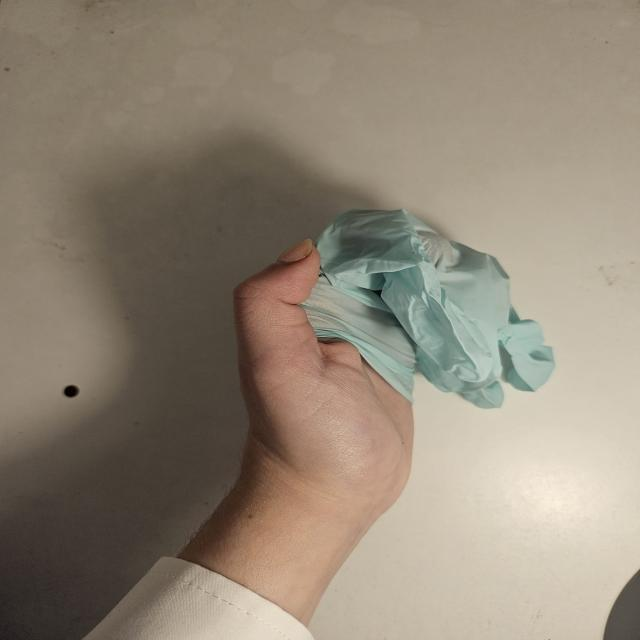glove_partial: (229, 206, 555, 499)
